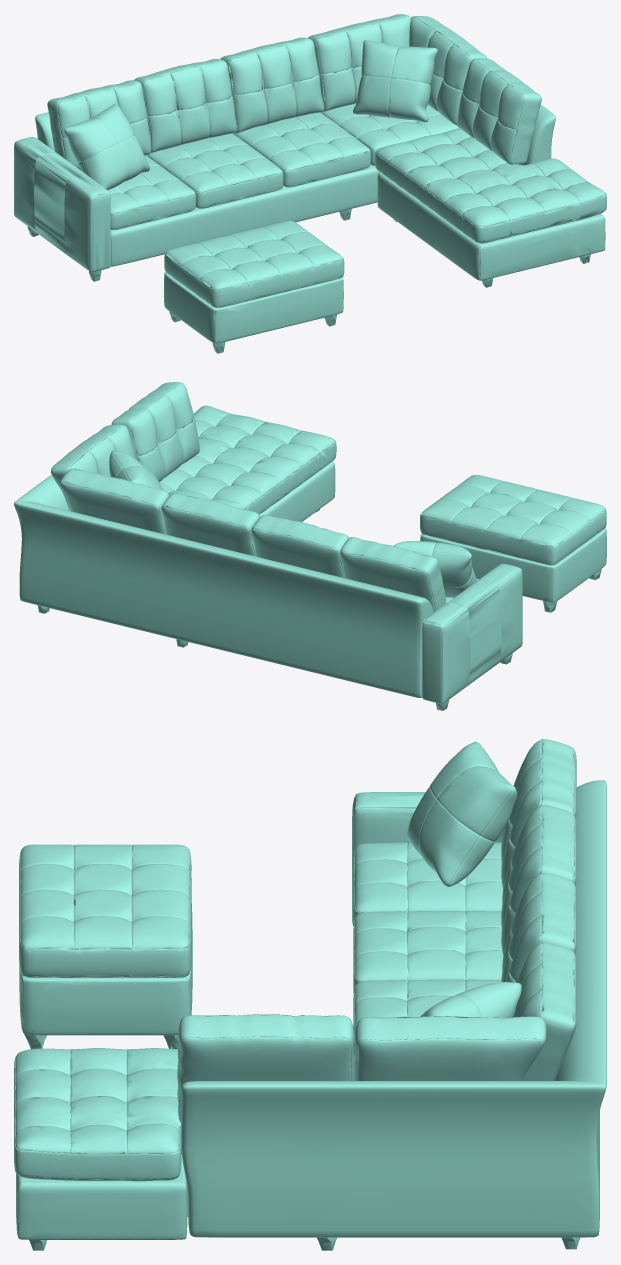
File: item-25.glb
The picture shows the model from 3 angles, top to bottom: view 1: azimuth 30°, elevation 25°; view 2: azimuth 150°, elevation 25°; view 3: azimuth 270°, elevation 25°; orthographic projection. The views are drawn at different scales.
Parts seen in each view (by area): view 1: Mallory_Tufted_Upholstered_Sectional; view 2: Mallory_Tufted_Upholstered_Sectional; view 3: Mallory_Tufted_Upholstered_Sectional.
Boxes of the visible parts, bbox=[...] form: Mallory_Tufted_Upholstered_Sectional: bbox=[14, 14, 606, 353]; Mallory_Tufted_Upholstered_Sectional: bbox=[14, 382, 606, 710]; Mallory_Tufted_Upholstered_Sectional: bbox=[14, 739, 606, 1250].
Bounding box in the file's own units: 108 × 34.23 × 82.6.
